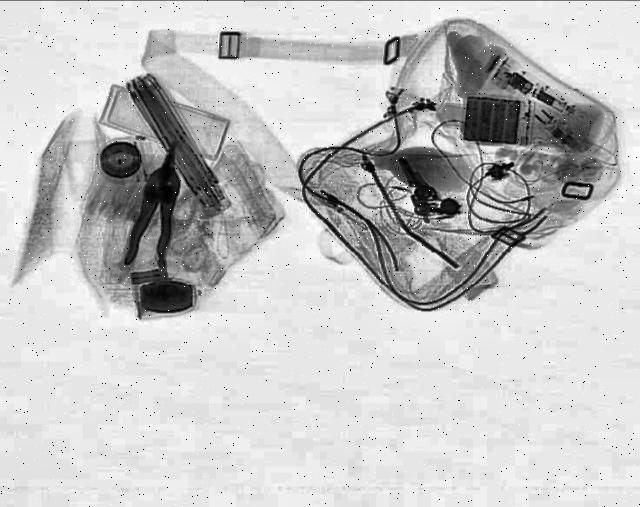Pliers: (122, 141, 194, 271)
